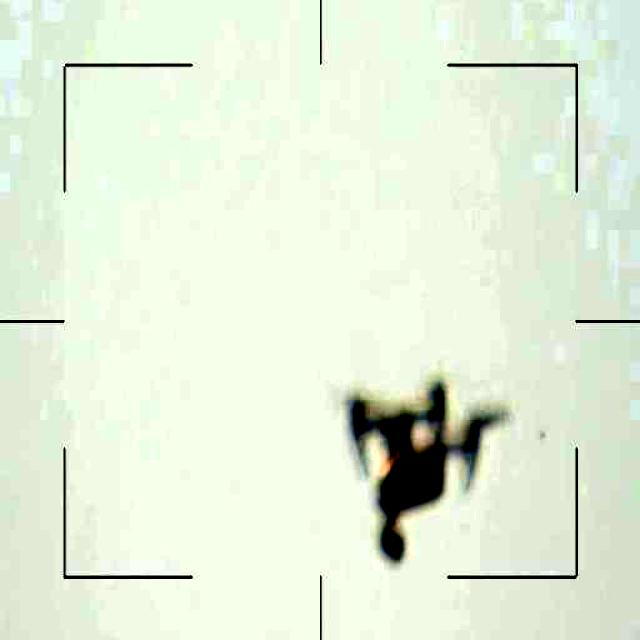bird: (335, 375, 498, 568)
